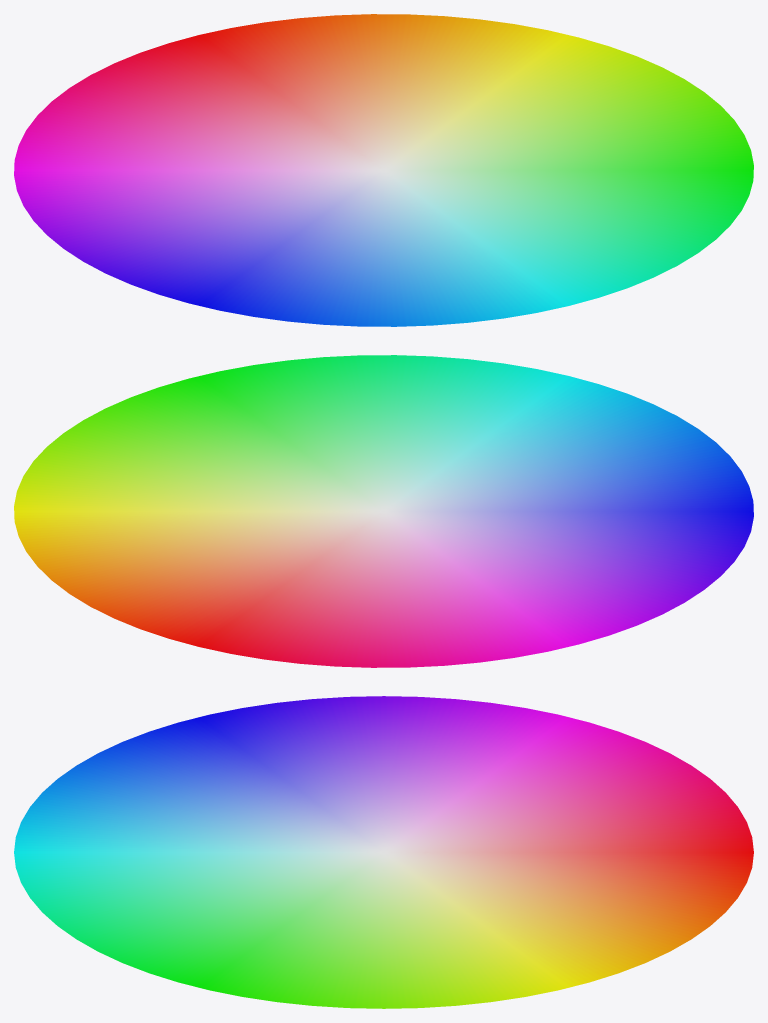
File: colorWheel.fbx
The picture shows the model from 3 angles, top to bottom: view 1: azimuth 30°, elevation 25°; view 2: azimuth 150°, elevation 25°; view 3: azimuth 270°, elevation 25°; orthographic projection.
Visible parts, largest first — view 1: Circle; view 2: Circle; view 3: Circle.
Part boxes in pixels (left/top/right/bottom): Circle: left=14, top=14, right=753, bottom=326; Circle: left=14, top=355, right=753, bottom=667; Circle: left=14, top=696, right=753, bottom=1008.
Size of the model in its own units: 200 by 3.26e-05 by 200.
Materials: 1 (1 with a texture image).
